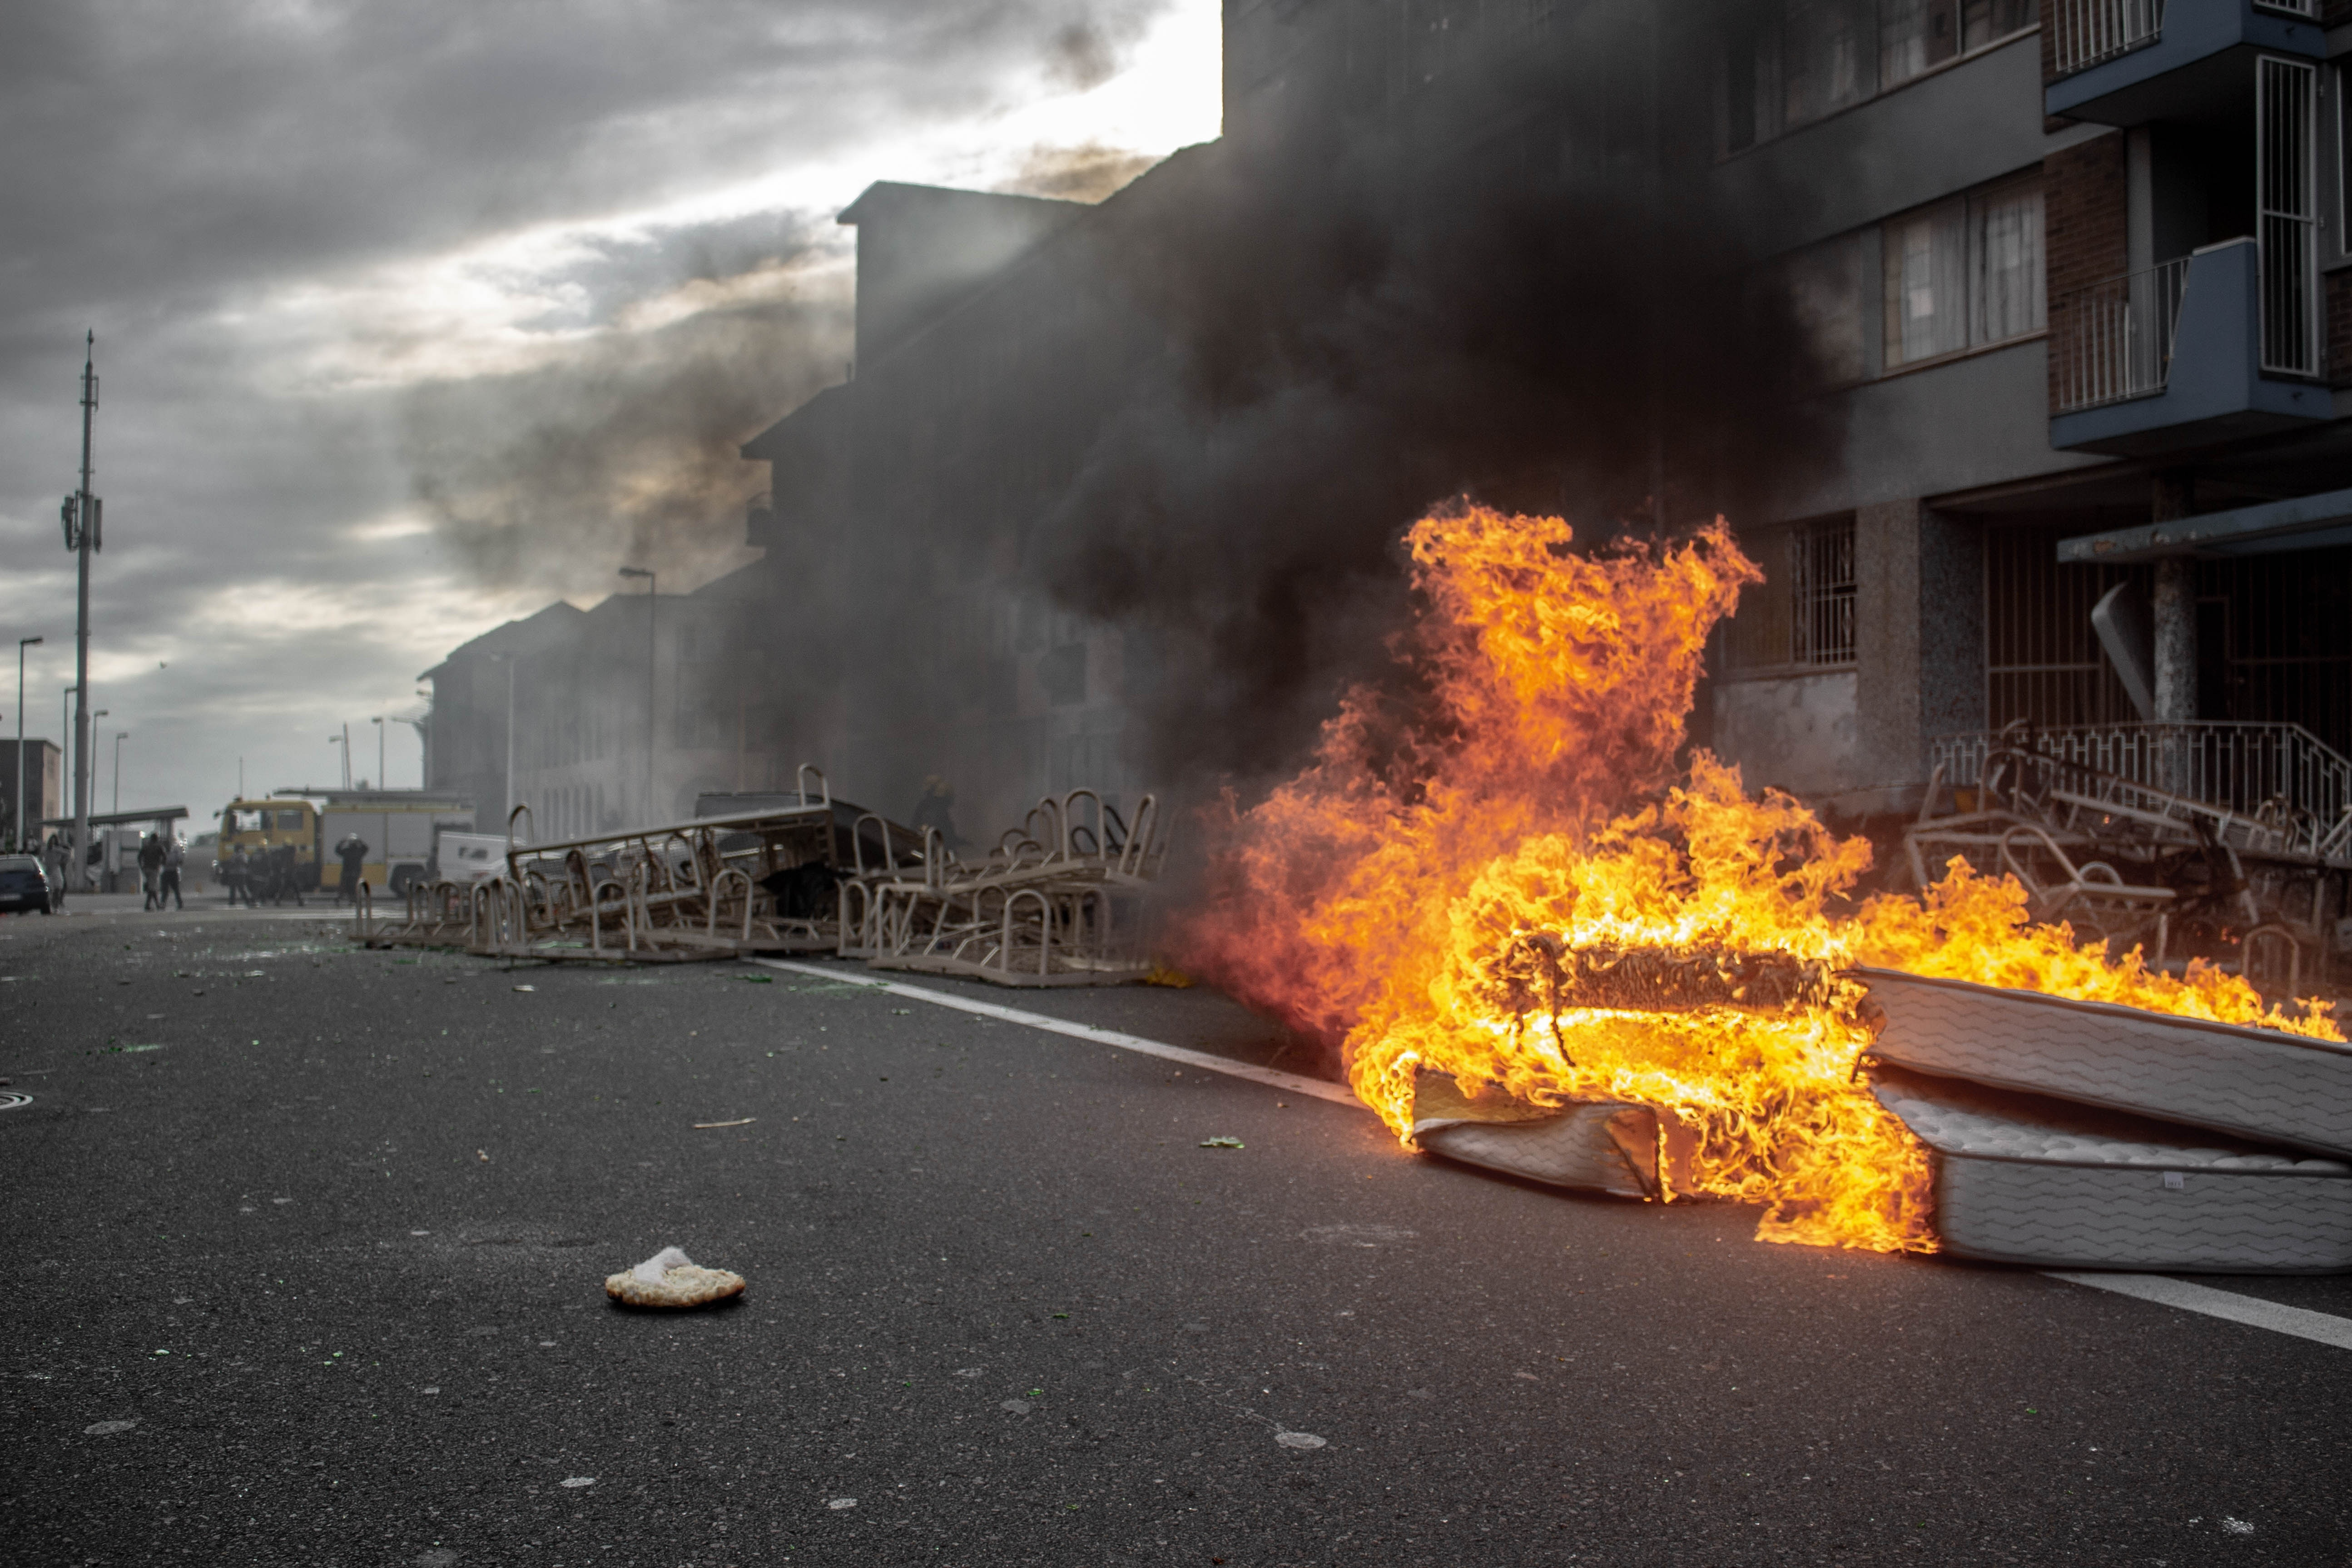fire: (1218, 479, 2347, 1276)
